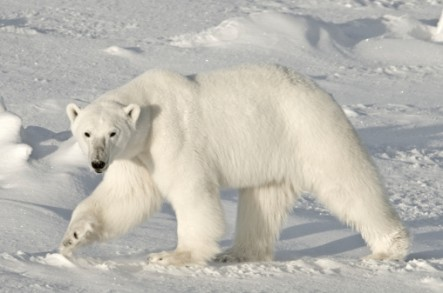Polar Bear: (48, 38, 411, 266)
